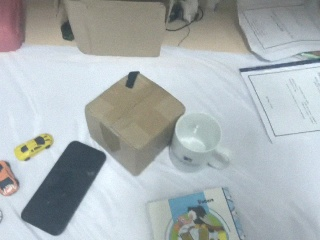book: (144, 185, 256, 239)
box: (84, 70, 186, 177), (60, 1, 169, 59)
cup: (168, 111, 232, 172)
phone: (18, 139, 108, 237)
toy_car: (14, 133, 53, 162), (1, 159, 20, 198)
